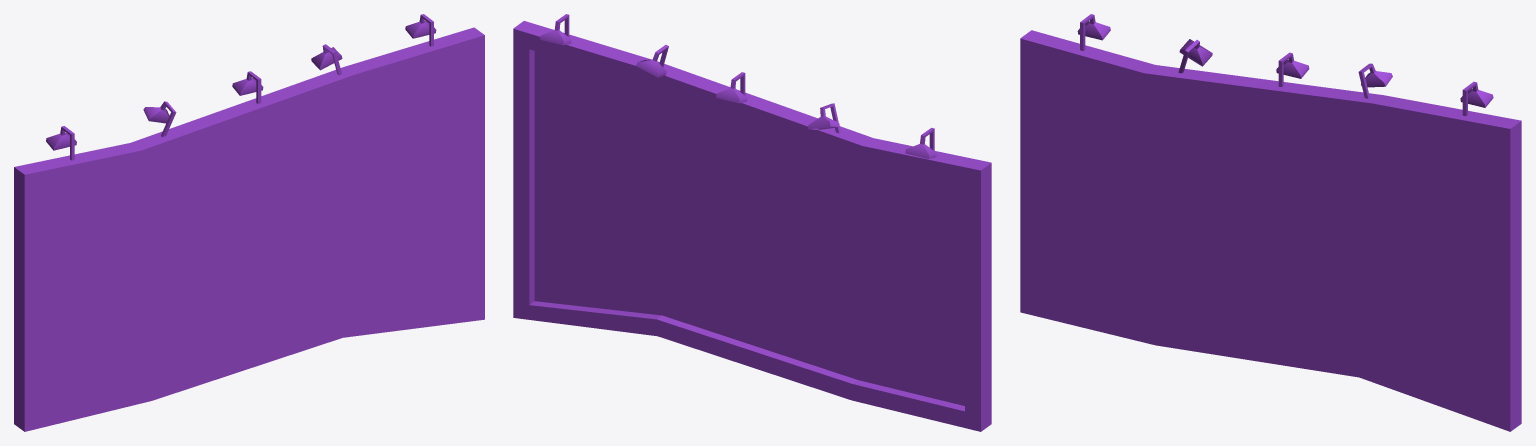
The model's file is SM_panneaucanard.fbx.
3 renders of one model, left to right at view 1: azimuth 30°, elevation 25°; view 2: azimuth 150°, elevation 25°; view 3: azimuth 330°, elevation 25°, orthographic. The views are drawn at different scales.
Parts seen in each view (by area): view 1: SM_panneaucanard; view 2: SM_panneaucanard; view 3: SM_panneaucanard.
Part boxes in pixels (<box>): SM_panneaucanard: <box>14,14,484,431</box>; SM_panneaucanard: <box>513,14,991,431</box>; SM_panneaucanard: <box>1020,14,1521,431</box>.
Bounding box in the file's own units: 4796 × 3048 × 370.
